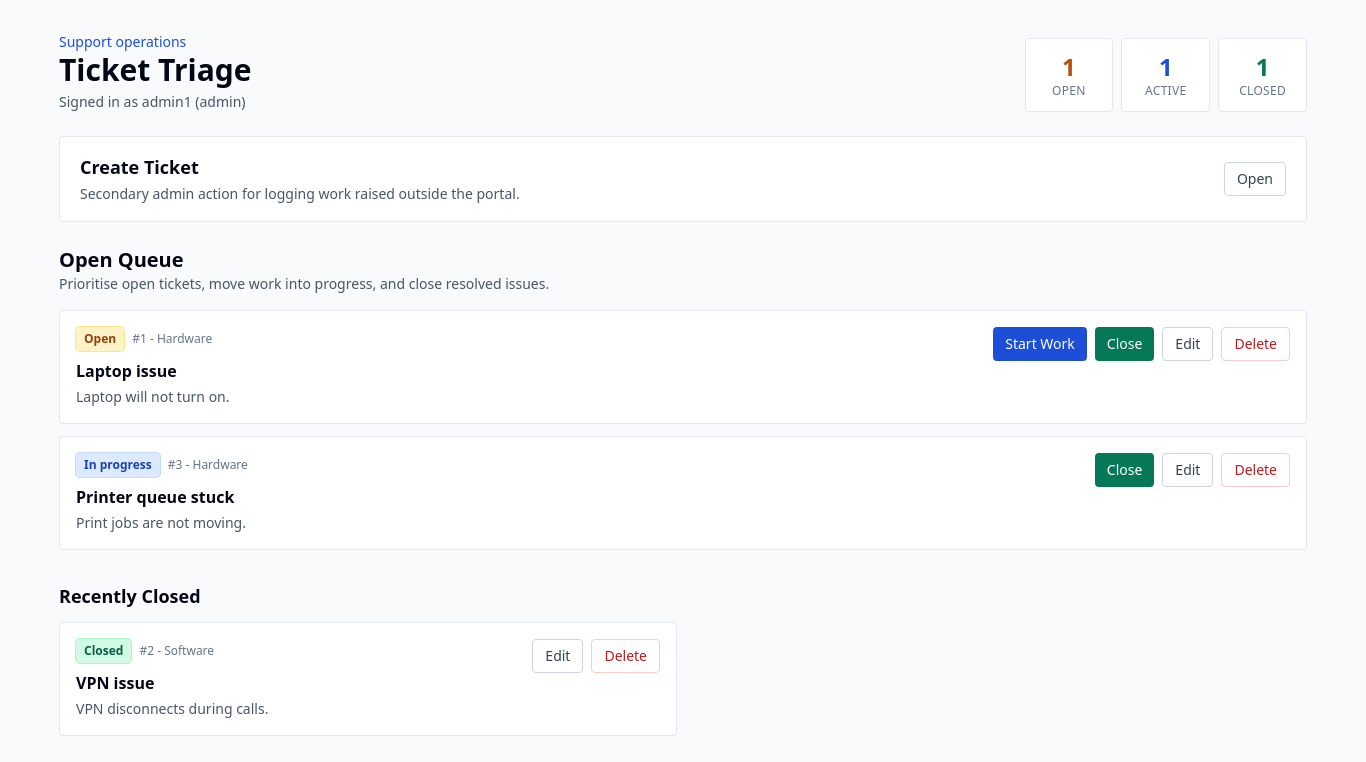
Test: renders admin triage controls and starts work on an open ticket
The image size is (1366, 762).
Check: the heading "Ticket Triage" is shown, box [59,52,252,88]
Check: the button named "open" is shown, box [60,137,1306,221]
Click the button "Start Work" at (1040, 344), box [993,327,1087,361]
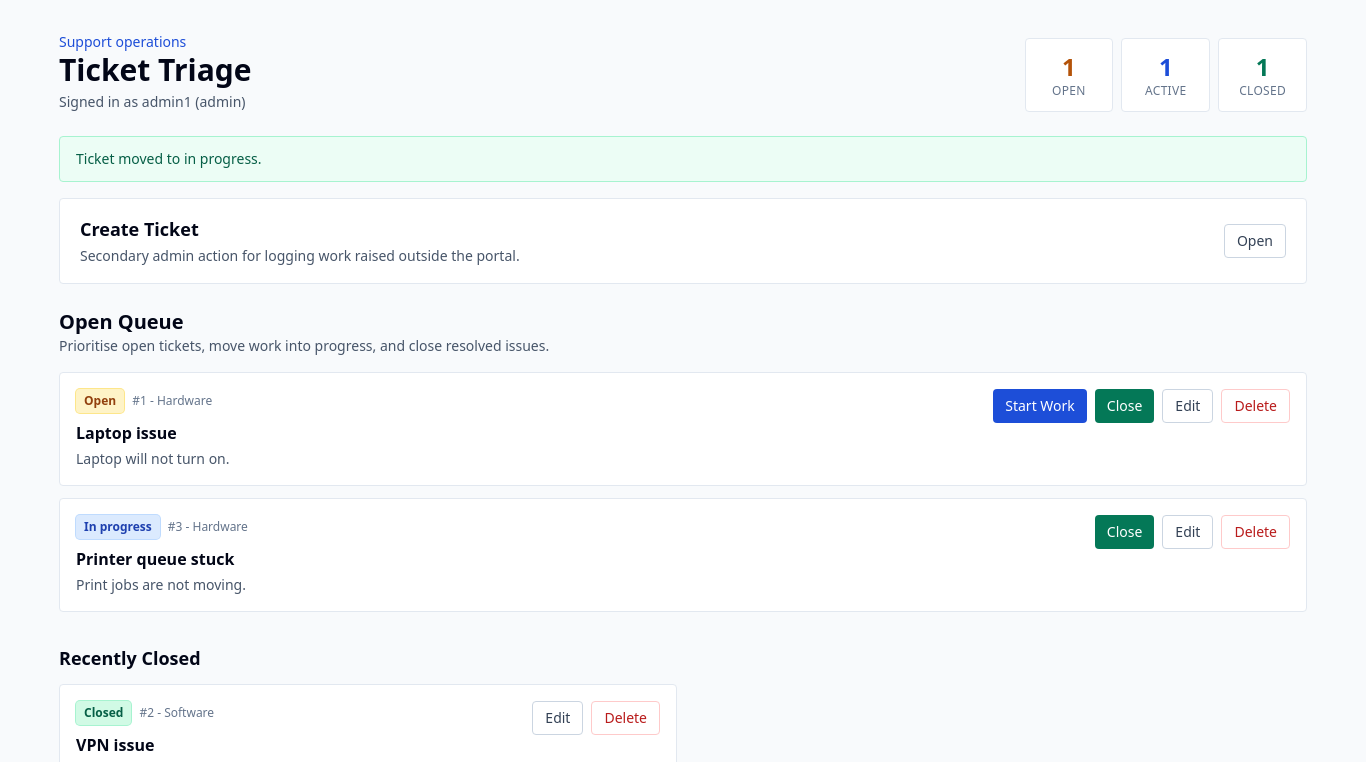
Check: the text "Ticket moved to in progress." is shown, box [59,136,1307,182]
